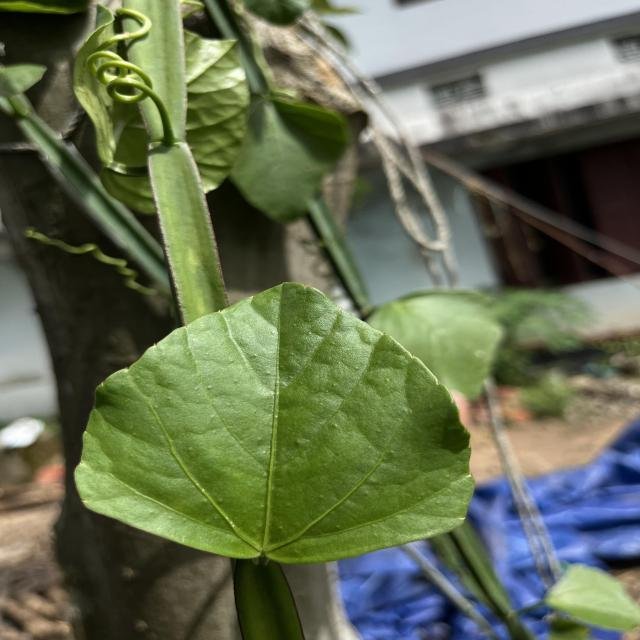Cissus quadrangularis: (69, 278, 478, 567)
